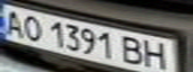1: (42, 18, 66, 47), (97, 29, 118, 61)
3: (60, 21, 81, 53)
9: (78, 26, 100, 56)
A: (0, 7, 27, 37)
B: (118, 34, 148, 66)
H: (139, 38, 175, 71)
O: (18, 12, 45, 42)
